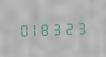eight: (42, 20, 53, 36)
one: (29, 20, 40, 37)
three: (54, 19, 65, 36), (78, 19, 89, 35)
two: (66, 19, 77, 36)
zero: (17, 21, 28, 37)
